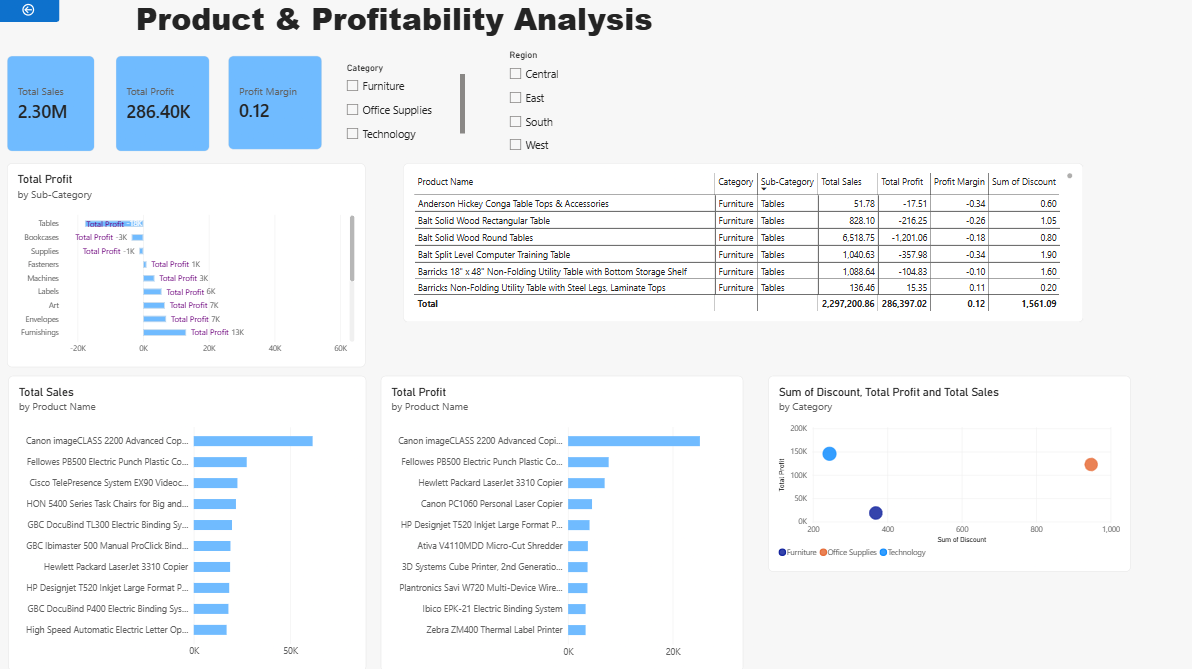

The dashboard page shown, as its layout file describes it:
{"tool":"powerbi","page":{"name":"Page 2- Product & Profitability Analysis","canvas":[1920,1080],"ordinal":1},"visuals":[{"type":"cardVisual","fields":{"Data":["Orders.Total Sales"]},"box":[16.7,93.3,140,153.3],"z":0},{"type":"textbox","box":[190,0,890,103.3],"z":1000},{"type":"cardVisual","fields":{"Data":["Orders.Total Profit"]},"box":[190,93.3,150,153.3],"z":2000},{"type":"cardVisual","fields":{"Data":["Orders.Profit Margin"]},"box":[370,93.3,150,150],"z":3000},{"type":"clusteredBarChart","fields":{"Category":["Orders.Product Name"],"Y":["Orders.Total Sales"]},"box":[17,606,573,473],"z":4000},{"type":"clusteredBarChart","fields":{"Category":["Orders.Product Name"],"Y":["Orders.Total Profit"]},"box":[613.3,606.7,580,473.3],"z":5000},{"type":"clusteredBarChart","fields":{"Category":["Orders.Sub-Category"],"Y":["Orders.Total Profit"]},"box":[16.7,266.7,573.3,326.7],"z":6000},{"type":"scatterChart","fields":{"Series":["Orders.Category"],"Size":["Orders.Total Sales"],"X":["Sum(Orders.Discount)"],"Y":["Orders.Total Profit"]},"box":[1234,606,580,313.3],"z":7000},{"type":"slicer","fields":{"Values":["Orders.Category"]},"box":[551.2,103.8,196.7,126.7],"z":8000},{"type":"actionButton","box":[0,0,100,40],"z":9000},{"type":"slicer","fields":{"Values":["Orders.Region"]},"box":[811.2,83.8,183.3,170],"z":10000},{"type":"tableEx","fields":{"Values":["Orders.Product Name","Orders.Category","Orders.Sub-Category","Orders.Total Sales","Orders.Total Profit","Orders.Profit Margin","Sum(Orders.Discount)"]},"box":[650,266,1088,254],"z":11000}]}

Visuals, with their boxes in screenshot pixels (x1, y1, x2, y2), scaled from the page's 1920x1080 canvas onto the 1192x669 screenshot:
cardVisual - Orders.Total Sales: crop(10, 58, 97, 153)
textbox: crop(118, 0, 670, 64)
cardVisual - Orders.Total Profit: crop(118, 58, 211, 153)
cardVisual - Orders.Profit Margin: crop(230, 58, 323, 151)
clusteredBarChart - Orders.Product Name x Orders.Total Sales: crop(11, 375, 366, 668)
clusteredBarChart - Orders.Product Name x Orders.Total Profit: crop(381, 376, 741, 668)
clusteredBarChart - Orders.Sub-Category x Orders.Total Profit: crop(10, 165, 366, 368)
scatterChart - Orders.Category x Orders.Total Sales: crop(766, 375, 1126, 569)
slicer - Orders.Category: crop(342, 64, 464, 143)
actionButton: crop(0, 0, 62, 25)
slicer - Orders.Region: crop(504, 52, 617, 157)
tableEx - Orders.Product Name x Orders.Category: crop(404, 165, 1079, 322)
